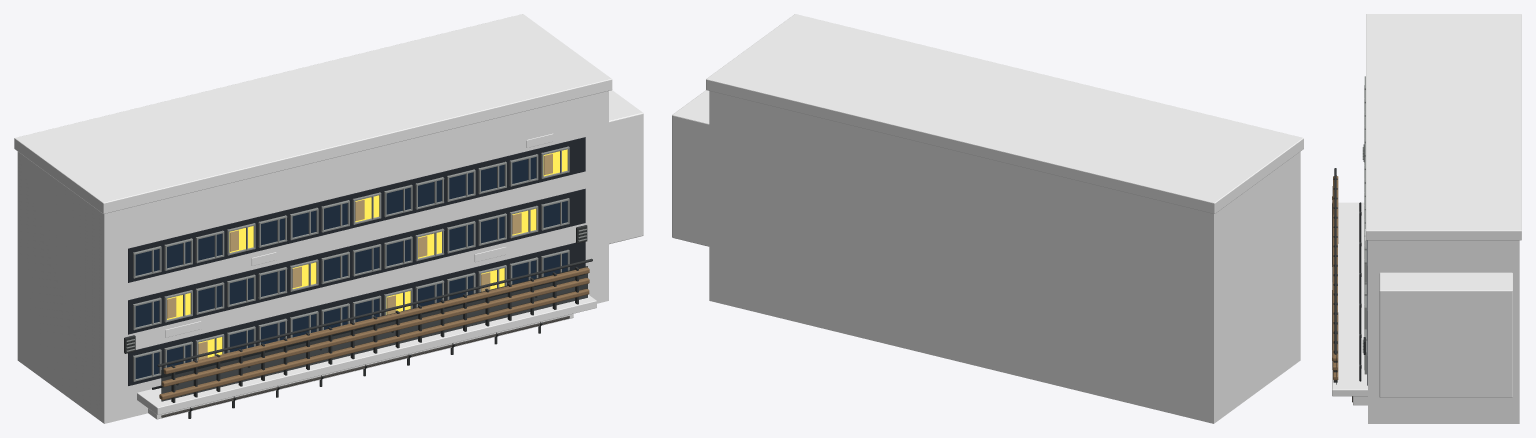
Rendered from harperhey-coral-upper-block.glb.
The picture shows the model from 3 angles, left to right: view 1: azimuth 30°, elevation 25°; view 2: azimuth 150°, elevation 25°; view 3: azimuth 270°, elevation 25°; orthographic projection. The views are drawn at different scales.
Visible parts, largest first — view 1: Coral_Upper_Block_Shell, Coral_Upper_Parapet, Coral_Window_Band_Recess_2, Coral_Window_Band_Recess_1, Coral_Deck_Slab, Coral_Railing_Mesh, Coral_Right_Service_Block, Coral_Window_Band_Recess_0, Coral_Timber_Rail_6.6, Coral_Timber_Rail_5.62, Coral_Timber_Rail_6.12, Coral_Concrete_Canopy (+2 smaller); view 2: Coral_Upper_Block_Shell, Coral_Upper_Parapet, Coral_Right_Service_Block; view 3: Coral_Upper_Parapet, Coral_Right_Service_Block, Coral_Upper_Block_Shell, Coral_Deck_Slab, Coral_Timber_Rail_6.6, Coral_Railing_Top_Pipe, Coral_Walkway_Utility_Pipe.
Boxes of the visible parts, x1,y1,x2,y2 form: Coral_Upper_Block_Shell: [17, 91, 608, 423]; Coral_Upper_Parapet: [14, 14, 612, 213]; Coral_Window_Band_Recess_2: [128, 137, 585, 282]; Coral_Window_Band_Recess_1: [128, 188, 585, 334]; Coral_Deck_Slab: [137, 294, 596, 414]; Coral_Railing_Mesh: [161, 266, 587, 401]; Coral_Right_Service_Block: [609, 90, 643, 244]; Coral_Window_Band_Recess_0: [128, 241, 585, 385]; Coral_Timber_Rail_6.6: [163, 267, 589, 374]; Coral_Timber_Rail_5.62: [159, 288, 589, 400]; Coral_Timber_Rail_6.12: [161, 277, 589, 386]; Coral_Concrete_Canopy: [148, 314, 573, 419]; Coral_Upper_Block_Shell: [709, 91, 1300, 423]; Coral_Upper_Parapet: [706, 14, 1303, 213]; Coral_Right_Service_Block: [672, 90, 709, 246]; Coral_Upper_Parapet: [1366, 14, 1521, 240]; Coral_Right_Service_Block: [1379, 272, 1512, 397]; Coral_Upper_Block_Shell: [1368, 240, 1519, 423]; Coral_Deck_Slab: [1332, 202, 1367, 396]; Coral_Timber_Rail_6.6: [1332, 176, 1338, 361]; Coral_Railing_Top_Pipe: [1334, 168, 1336, 354]; Coral_Walkway_Utility_Pipe: [1359, 202, 1361, 381].
Bounding box in the file's own units: 24.45 × 9.79 × 8.39.
